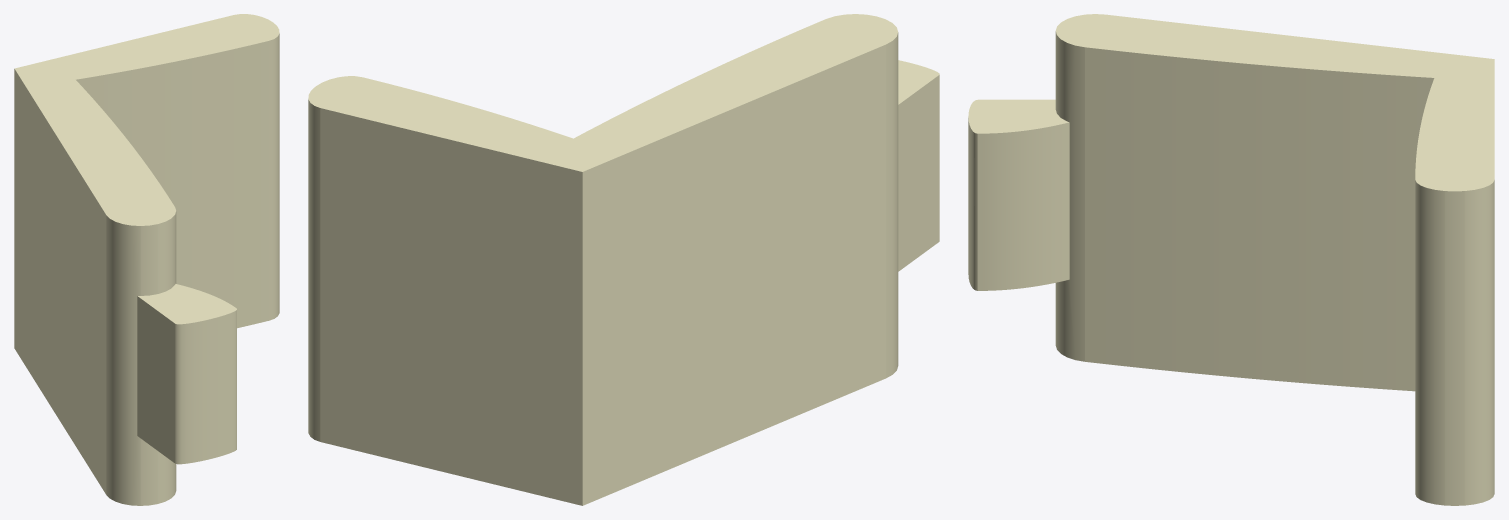
The model's file is car_seat.dae.
3 renders of one model, left to right at view 1: azimuth 30°, elevation 25°; view 2: azimuth 150°, elevation 25°; view 3: azimuth 270°, elevation 25°, orthographic. The views are drawn at different scales.
Parts seen in each view (by area): view 1: instance_0; view 2: instance_0; view 3: instance_0.
Boxes of the visible parts, <box> form: instance_0: <box>14,14,279,505</box>; instance_0: <box>308,14,939,505</box>; instance_0: <box>968,14,1494,505</box>.
Bounding box in the file's own units: 247 × 204 × 309.
